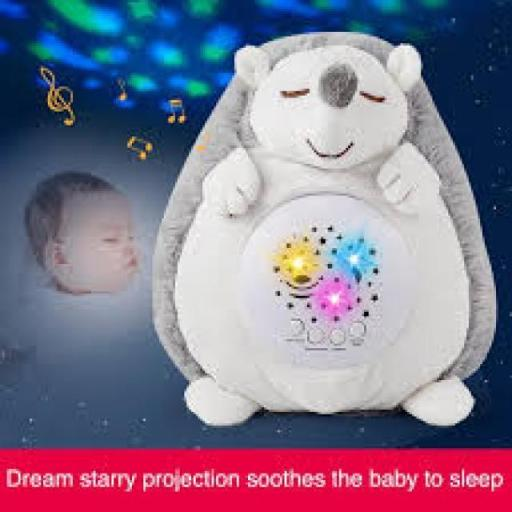baby: (26, 167, 139, 294)
